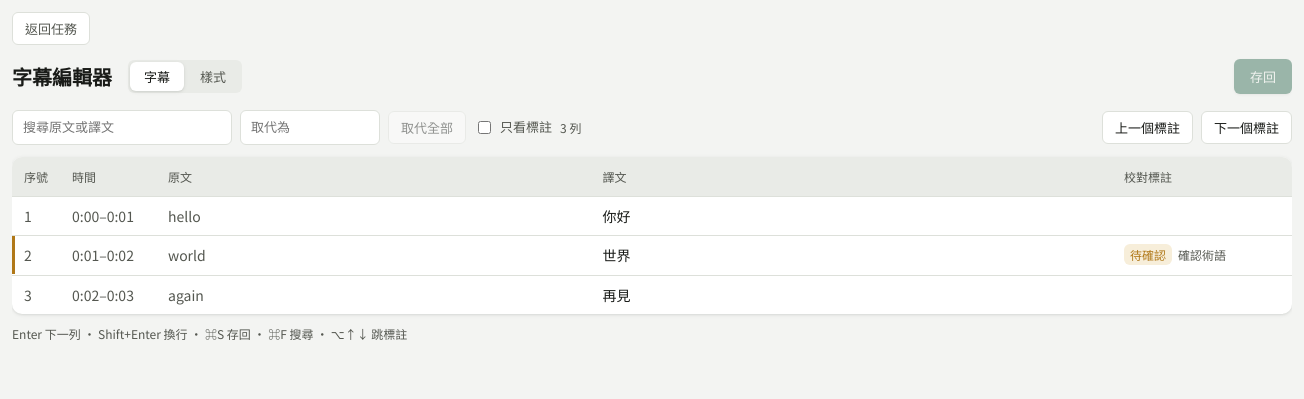
Test: SubtitleEditorView › Escape closes the editor keeping edits
Click the text "你好": (616,216) [602, 206, 630, 226]
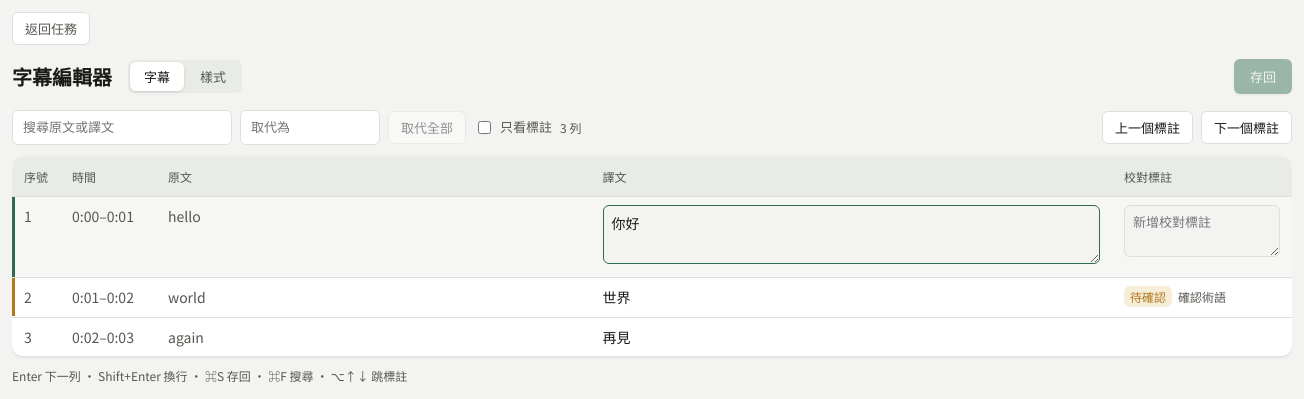
Replace the text in the text box named "譯文" with "哈囉": (851,234) [602, 205, 1100, 264]
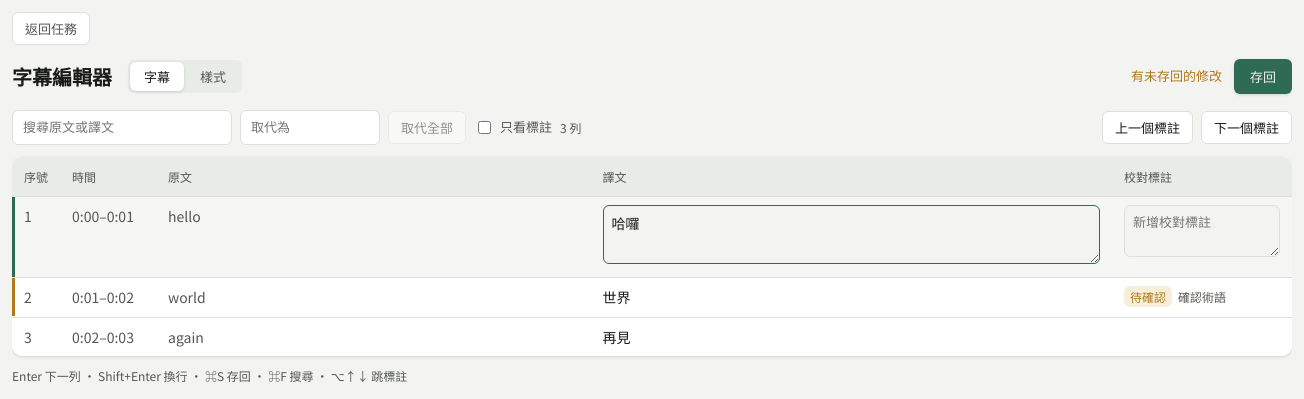
Press Escape
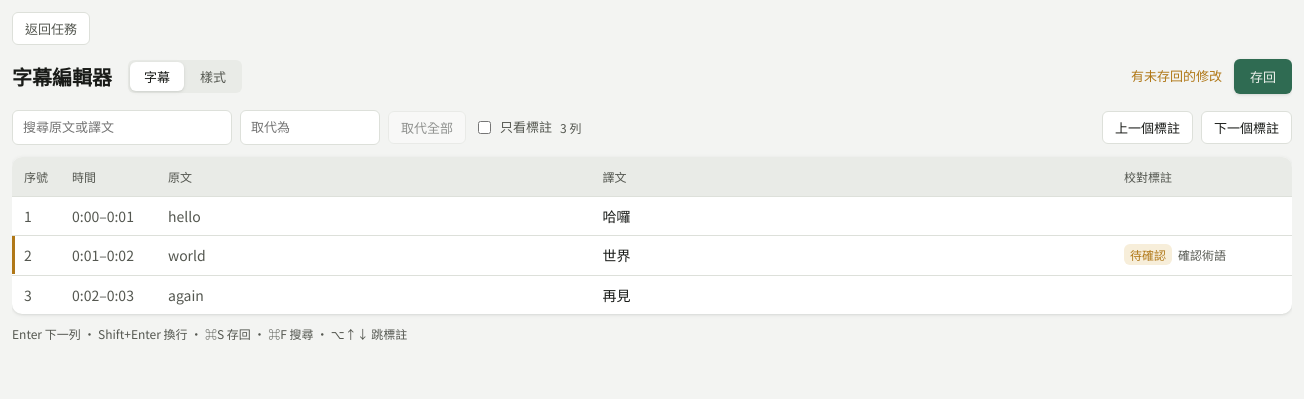
Expected: the text "哈囉" is shown, [602, 206, 630, 226]
